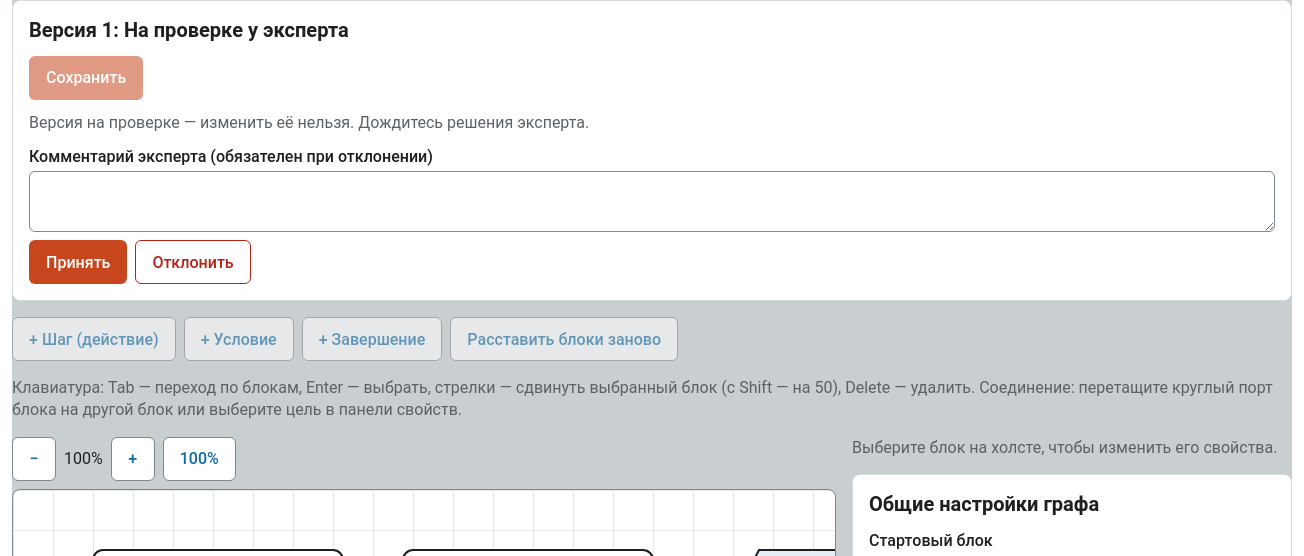
Test: ScenarioGraphEditor: процесс версий и права › эксперт с правом принимает версию, отклонение требует комментария
This screenshot has width=1304, height=556.
Click the button "Отклонить" at (193, 262), box [135,240,251,284]
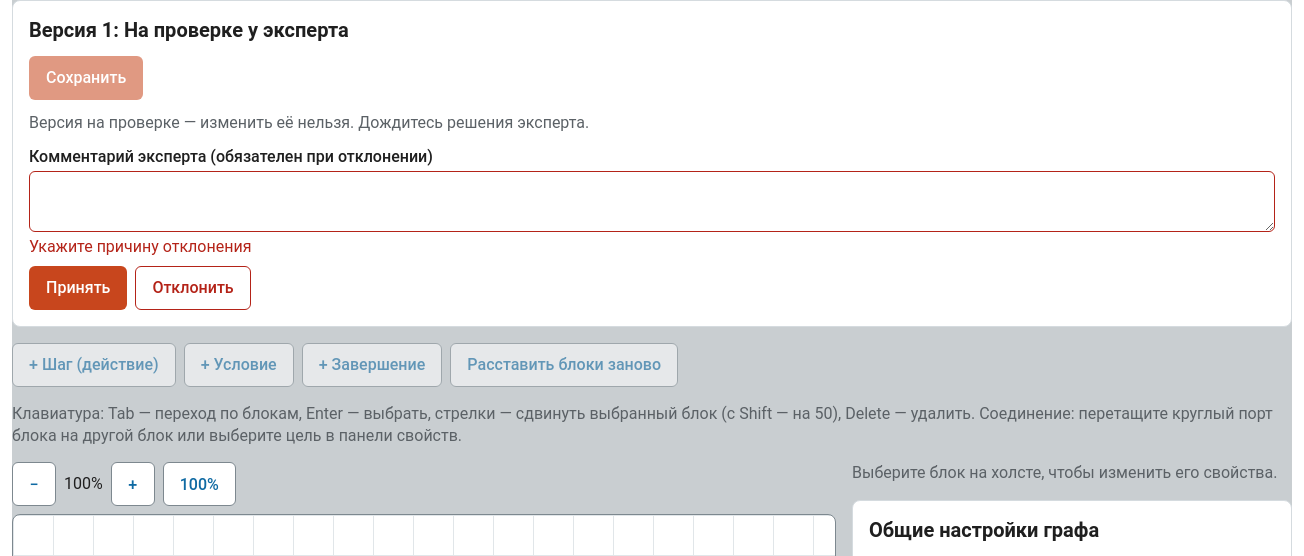
Expected: the text "Укажите причину отклонения" is shown, [29,237,251,256]
Type "Нет ветки отказа" into the text box labelled "Комментарий эксперта (обязателен при отклонении)" at (652, 202), box [29,171,1275,232]
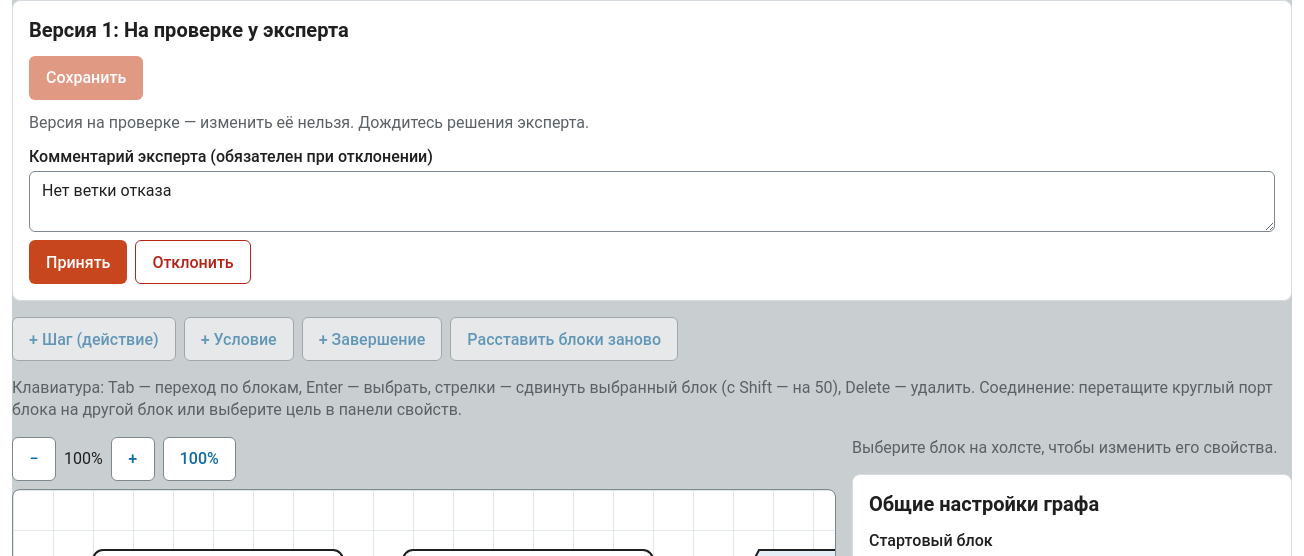
Click the button "Принять" at (78, 262), box [29,240,127,284]
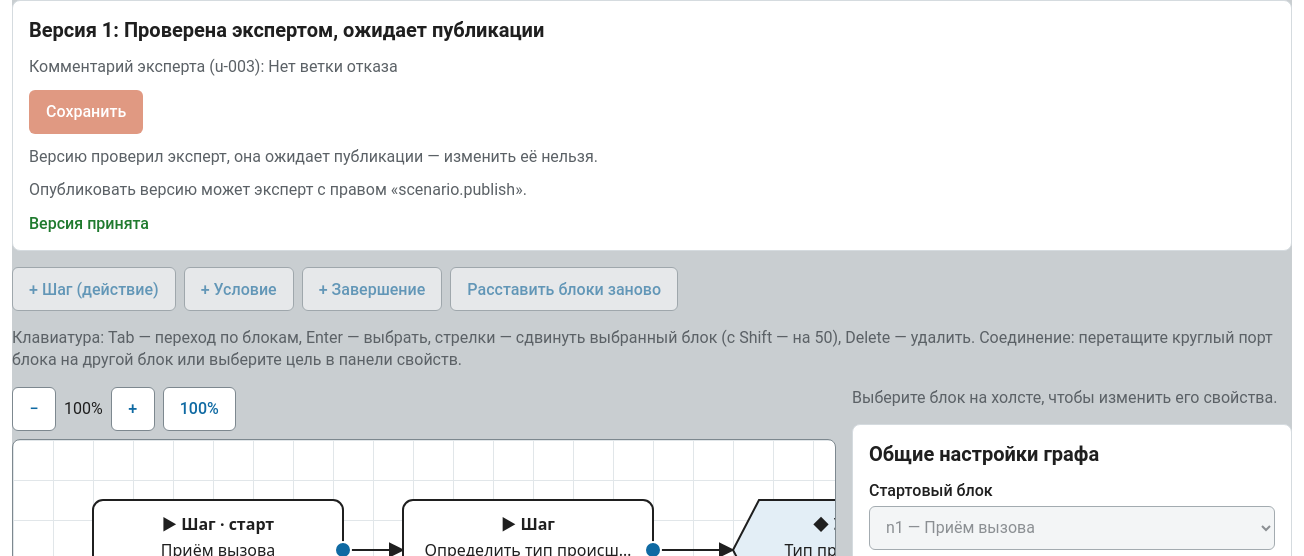
Expected: the text with test id "approval-status" reads "Проверена экспертом, ожидает публикации", [124,18,544,42]
Expected: the button "Принять" is gone
